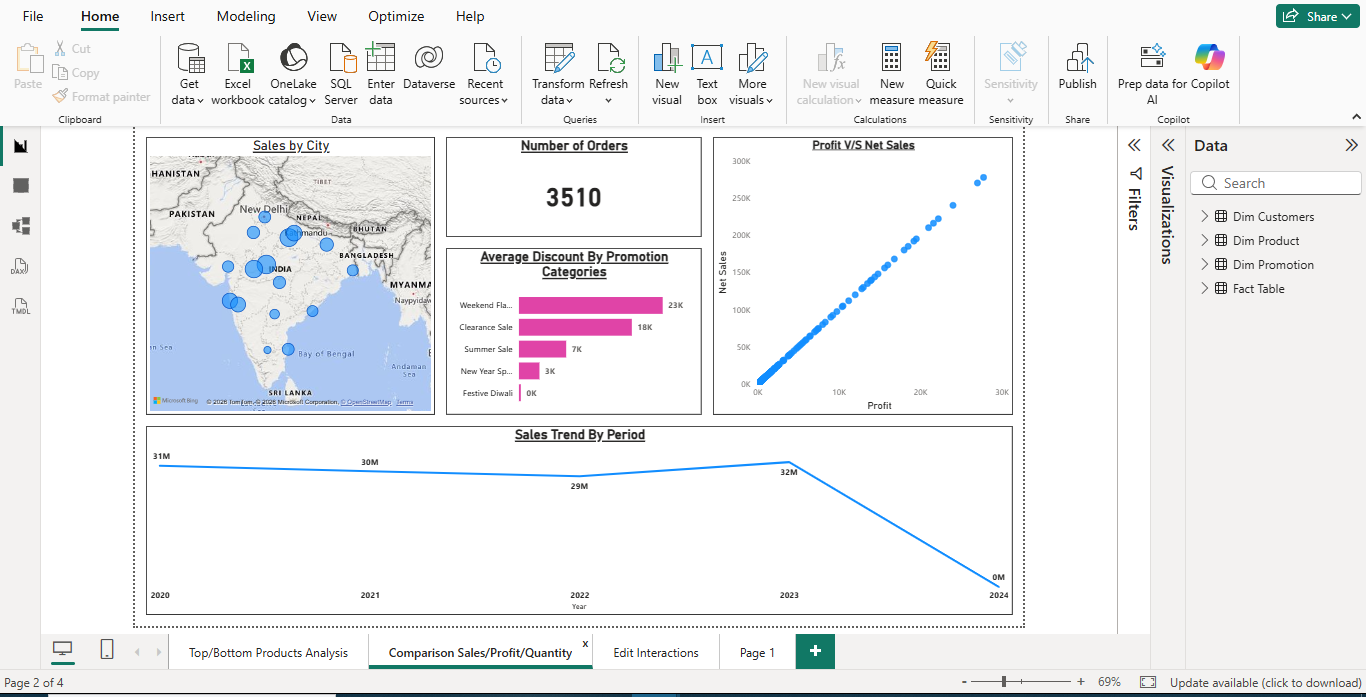

The page's visual inventory and layout, read from the dashboard file:
{"tool":"powerbi","page":{"name":"Comparison Sales/Profit/Quantity","canvas":[1280,720],"ordinal":1},"visuals":[{"type":"lineChart","title":"Sales Trend By Period","fields":{"Category":["Fact Table.Date (dd/mm/yyyy).Variation.Date Hierarchy.Year","Fact Table.Date (dd/mm/yyyy).Variation.Date Hierarchy.Quarter","Fact Table.Date (dd/mm/yyyy).Variation.Date Hierarchy.Month","Fact Table.Date (dd/mm/yyyy).Variation.Date Hierarchy.Day"],"Y":["Sum(Fact Table.Net Sales)"]},"box":[16,432,1248,272],"z":0},{"type":"scatterChart","title":"Profit V/S Net Sales","fields":{"X":["Fact Table.Profit"],"Y":["Fact Table.Net Sales"]},"box":[832,16,432,400],"z":1000},{"type":"barChart","title":"Average Discount By Promotion Categories","fields":{"Category":["Dim Promotion.Promotion Name"],"Y":["Avg(Fact Table.Discount)"]},"box":[448,176,368,240],"z":2000},{"type":"map","title":"Sales by City","fields":{"Category":["Dim Customers.City"],"Size":["Sum(Fact Table.Net Sales)"]},"box":[16,16,416,400],"z":3000},{"type":"card","title":"Number of Orders","fields":{"Values":["CountNonNull(Fact Table.Order ID)"]},"box":[448,16,368,144],"z":4000}]}

Visuals, with their boxes on the page's 1280x720 design canvas (x1, y1, x2, y2). These are canvas units, not pixel positions in the 1366x697 screenshot, which may show the page scaled, cropped or inside an application window:
"Sales Trend By Period" lineChart: 16:432:1264:704
"Profit V/S Net Sales" scatterChart: 832:16:1264:416
"Average Discount By Promotion Categories" barChart: 448:176:816:416
"Sales by City" map: 16:16:432:416
"Number of Orders" card: 448:16:816:160
